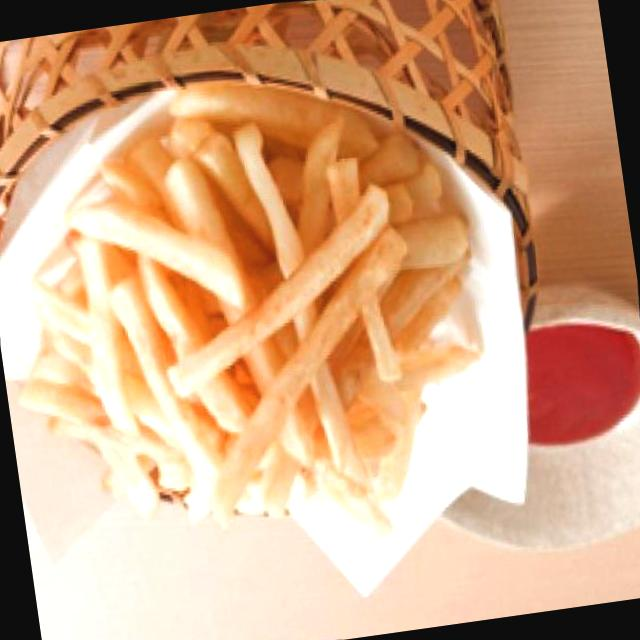French Fries: (2, 86, 520, 582)
